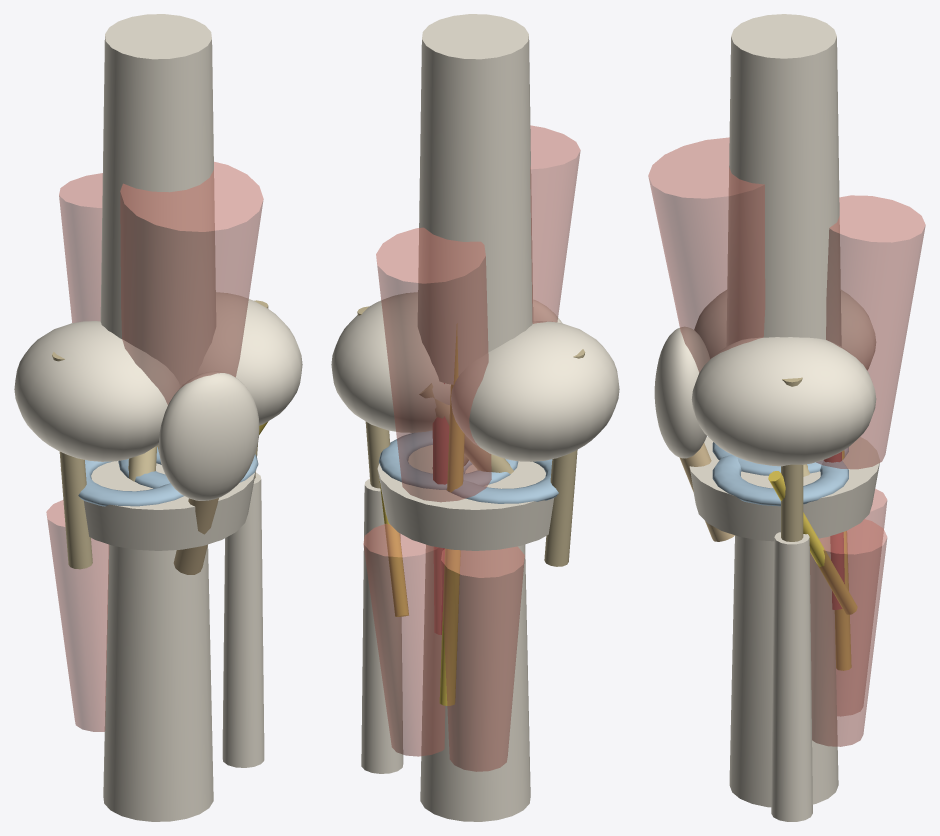
File: knee.glb
3 views of the same model, side by side, from view 1: azimuth 30°, elevation 25°; view 2: azimuth 150°, elevation 25°; view 3: azimuth 270°, elevation 25° (orthographic).
Bounding box in the file's own units: 1.84 × 5.15 × 1.73.
